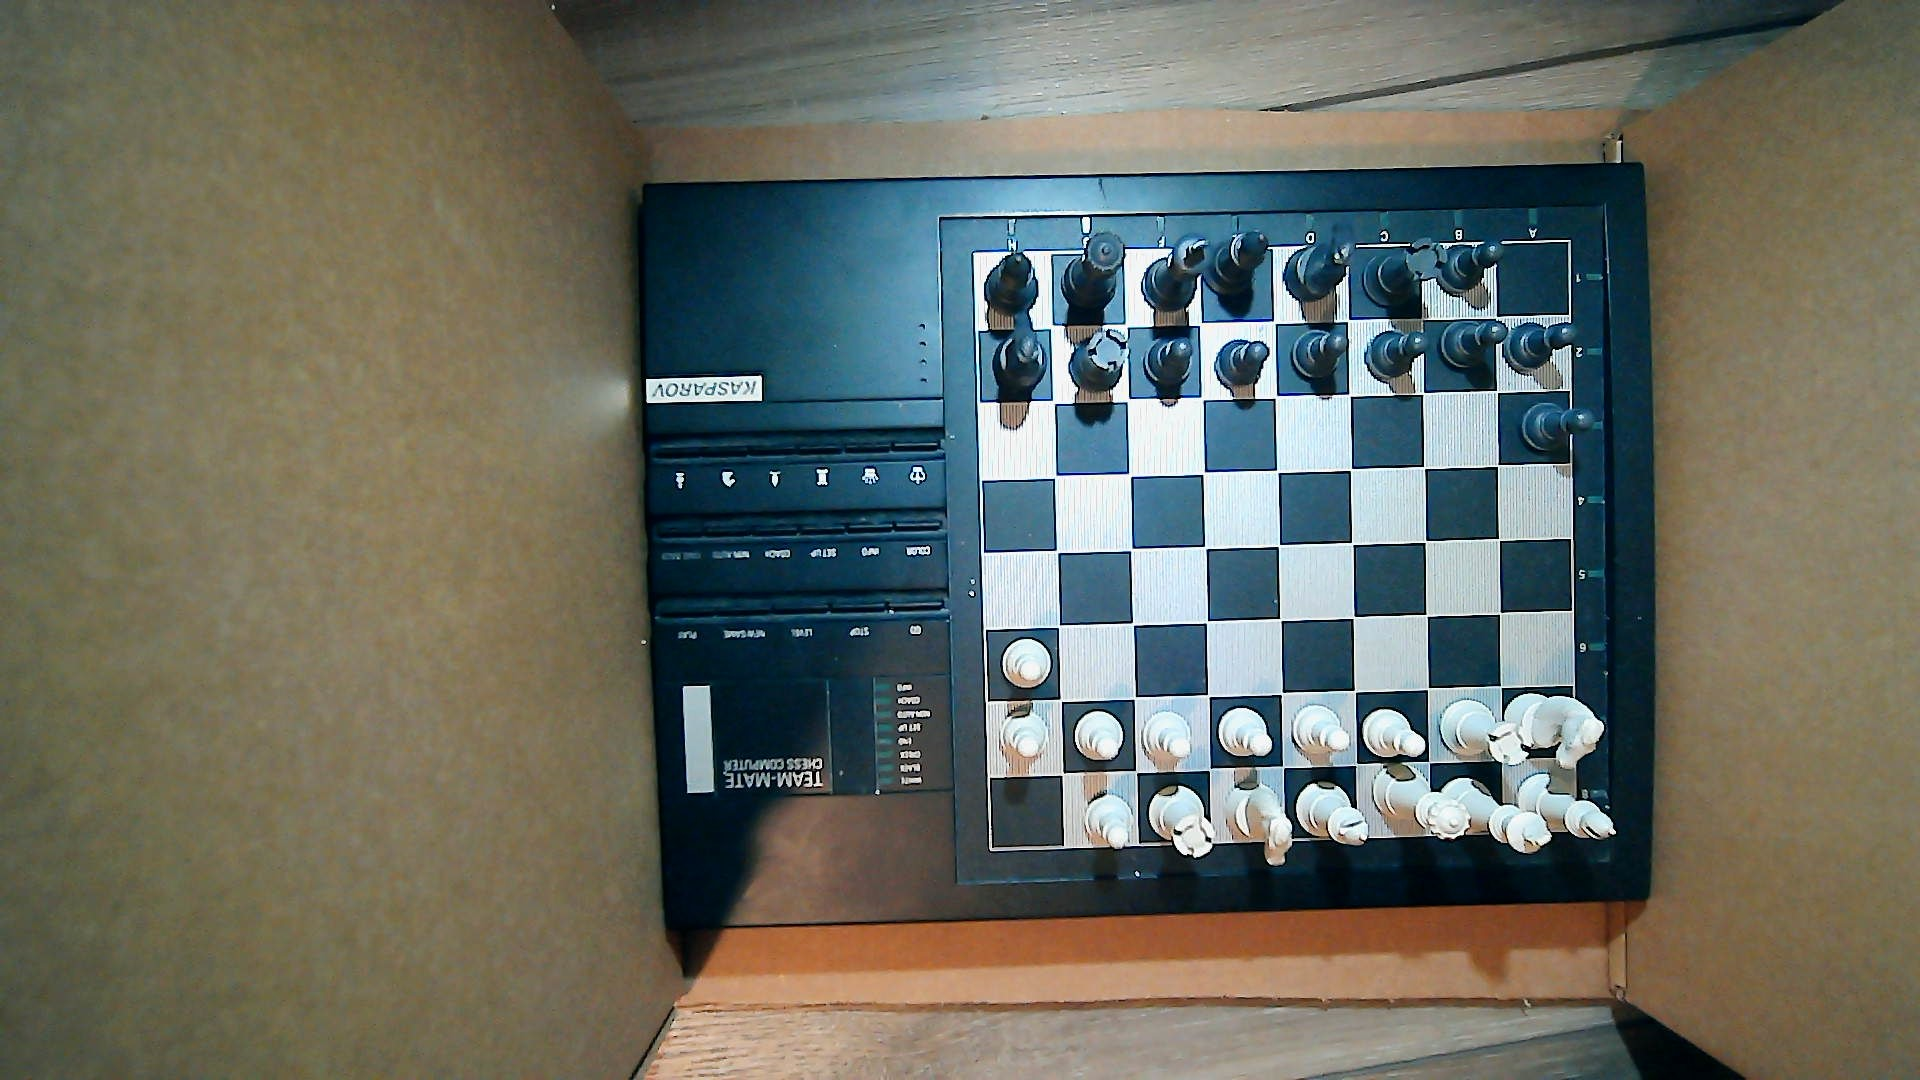bbishop: (1203, 229, 1273, 298), (984, 251, 1038, 316)
bking: (1135, 229, 1215, 313)
bknight: (1284, 222, 1356, 305), (989, 305, 1048, 394)
bpawn: (1437, 235, 1506, 293), (1522, 400, 1597, 451), (1440, 315, 1509, 371), (1505, 322, 1578, 372), (1364, 331, 1433, 378), (1290, 328, 1350, 380), (1143, 336, 1197, 388), (1215, 338, 1270, 386)
bqueen: (1060, 229, 1127, 313)
brook: (1364, 236, 1449, 309), (1069, 327, 1129, 393)
wbishop: (1516, 771, 1618, 843), (1294, 781, 1371, 851)
wking: (1445, 777, 1551, 856)
wknight: (1509, 691, 1606, 771), (1222, 782, 1288, 866)
wpawn: (1288, 700, 1353, 758), (1360, 708, 1427, 762), (1216, 705, 1275, 760), (996, 637, 1052, 691), (994, 709, 1050, 764), (1139, 708, 1193, 764), (1072, 709, 1126, 764), (1081, 795, 1135, 849)
wqueen: (1371, 764, 1472, 843)
wrook: (1439, 696, 1531, 767), (1146, 785, 1215, 858)
